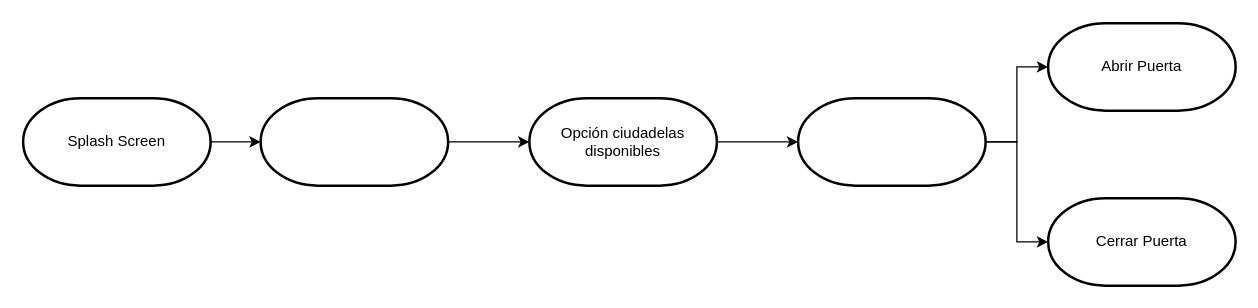
The diagram is 1258 pixels wide and 308 high, and some of its shapes have lost their labels. Here are the shapes that lost their labels. From the top down, the centre of each, then its label:
At (354,141): "Ventana Login".
At (891,141): "Opción puertas disponibles".
